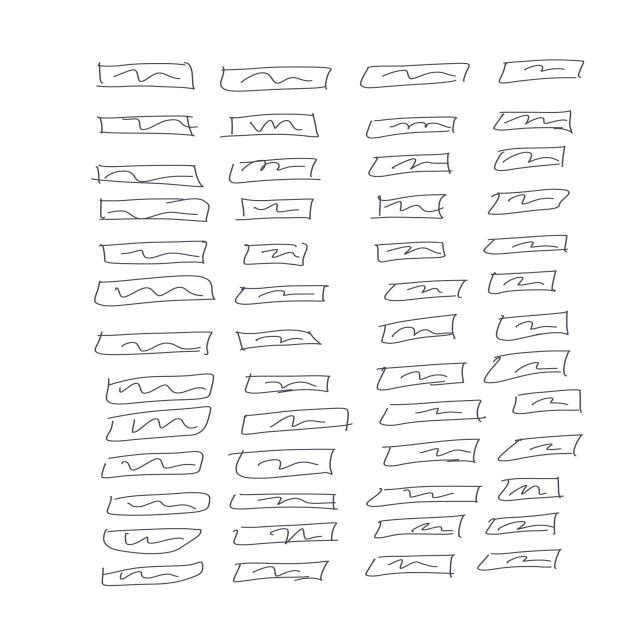Text: (214, 53, 340, 100), (87, 54, 205, 102), (218, 443, 344, 487), (80, 191, 220, 228), (358, 56, 477, 98), (83, 109, 211, 146), (93, 368, 223, 404), (90, 326, 218, 362), (105, 404, 226, 442), (80, 158, 212, 192), (233, 405, 357, 441), (360, 144, 463, 185), (91, 274, 222, 306), (368, 396, 488, 430), (226, 517, 346, 551), (475, 348, 575, 388), (225, 319, 322, 360), (86, 238, 218, 268), (491, 49, 589, 89), (102, 486, 215, 520), (368, 357, 471, 394), (483, 303, 571, 346), (90, 448, 213, 478), (366, 185, 458, 224), (369, 310, 463, 348), (94, 560, 217, 589), (222, 109, 329, 142), (223, 154, 326, 188), (500, 429, 591, 467), (236, 368, 336, 402), (479, 142, 572, 178), (362, 109, 460, 143), (477, 232, 585, 262), (360, 482, 483, 508), (100, 525, 209, 554), (356, 550, 459, 580), (487, 183, 572, 219), (382, 438, 485, 467), (230, 553, 332, 582), (229, 278, 333, 306), (366, 235, 457, 267), (220, 490, 341, 514), (505, 386, 586, 421), (470, 543, 564, 573), (369, 511, 461, 541), (482, 510, 572, 540), (491, 108, 578, 139), (484, 266, 568, 297), (380, 274, 469, 303), (491, 472, 569, 504), (238, 239, 314, 271), (234, 194, 316, 222)
